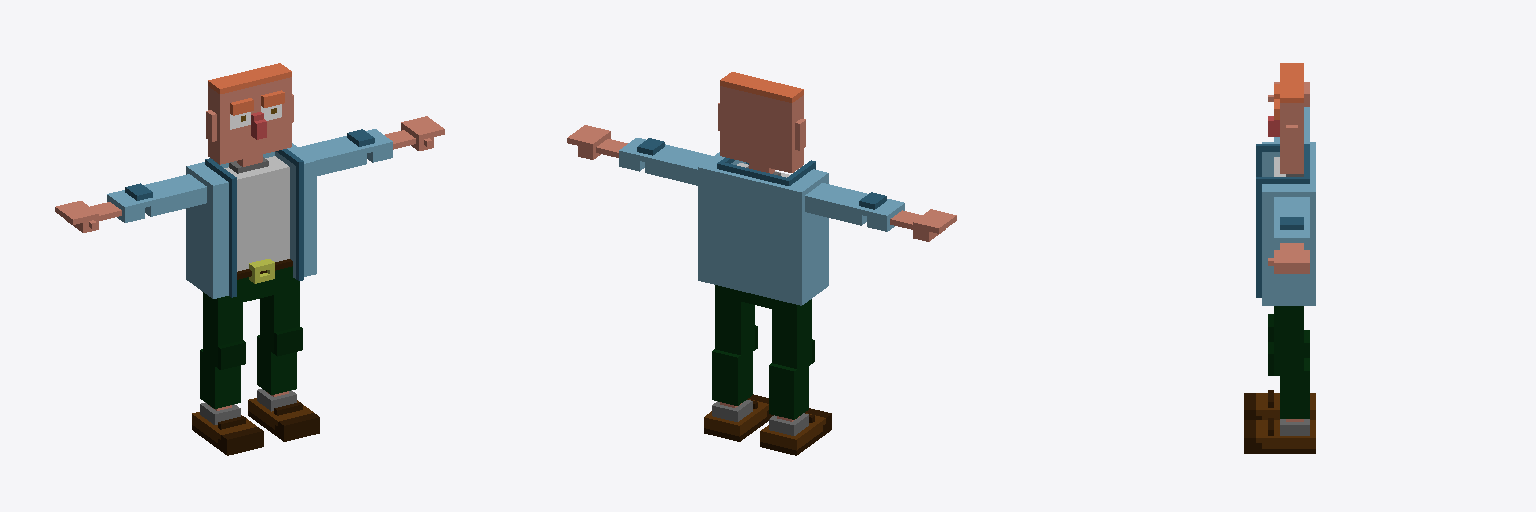
3 renders of one model, left to right at view 1: azimuth 30°, elevation 25°; view 2: azimuth 150°, elevation 25°; view 3: azimuth 270°, elevation 25°, orthographic.
Parts seen in each view (by area): view 1: object 1; view 2: object 1; view 3: object 1.
Part boxes in pixels (bbox=[...]): object 1: bbox=[55, 63, 444, 455]; object 1: bbox=[567, 72, 956, 455]; object 1: bbox=[1244, 63, 1315, 453].
Bounding box in the file's own units: 7.2 × 6.5 × 1.2.
1 materials, 1 textured.